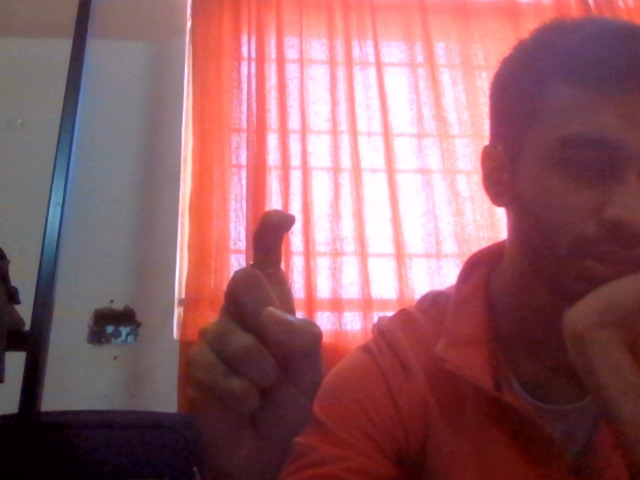X: (129, 177, 349, 480)
